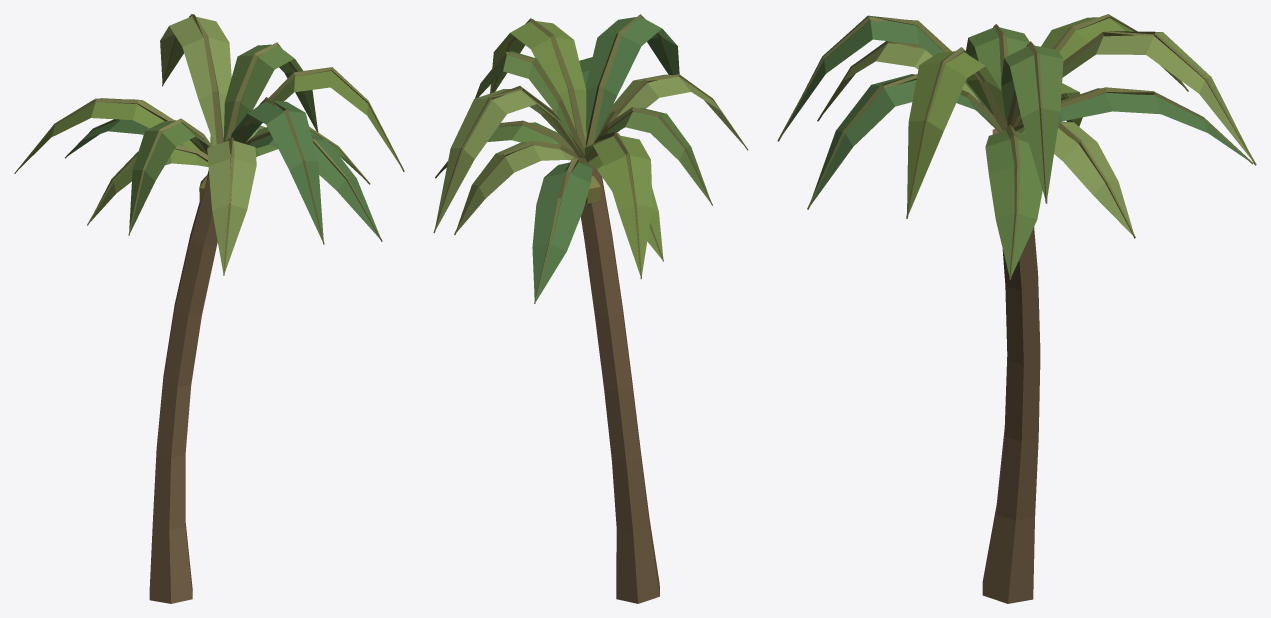
The model's file is Coconut_LOD2.glb.
3 views of the same model, side by side, from view 1: azimuth 30°, elevation 25°; view 2: azimuth 150°, elevation 25°; view 3: azimuth 270°, elevation 25° (orthographic). The views are drawn at different scales.
Parts seen in each view (by area): view 1: Coconut_LOD2; view 2: Coconut_LOD2; view 3: Coconut_LOD2.
Boxes of the visible parts, <box> form: Coconut_LOD2: <box>14,14,404,603</box>; Coconut_LOD2: <box>433,14,748,603</box>; Coconut_LOD2: <box>777,14,1256,603</box>.
Size of the model in its own units: 5.97 by 10.52 by 7.5.
